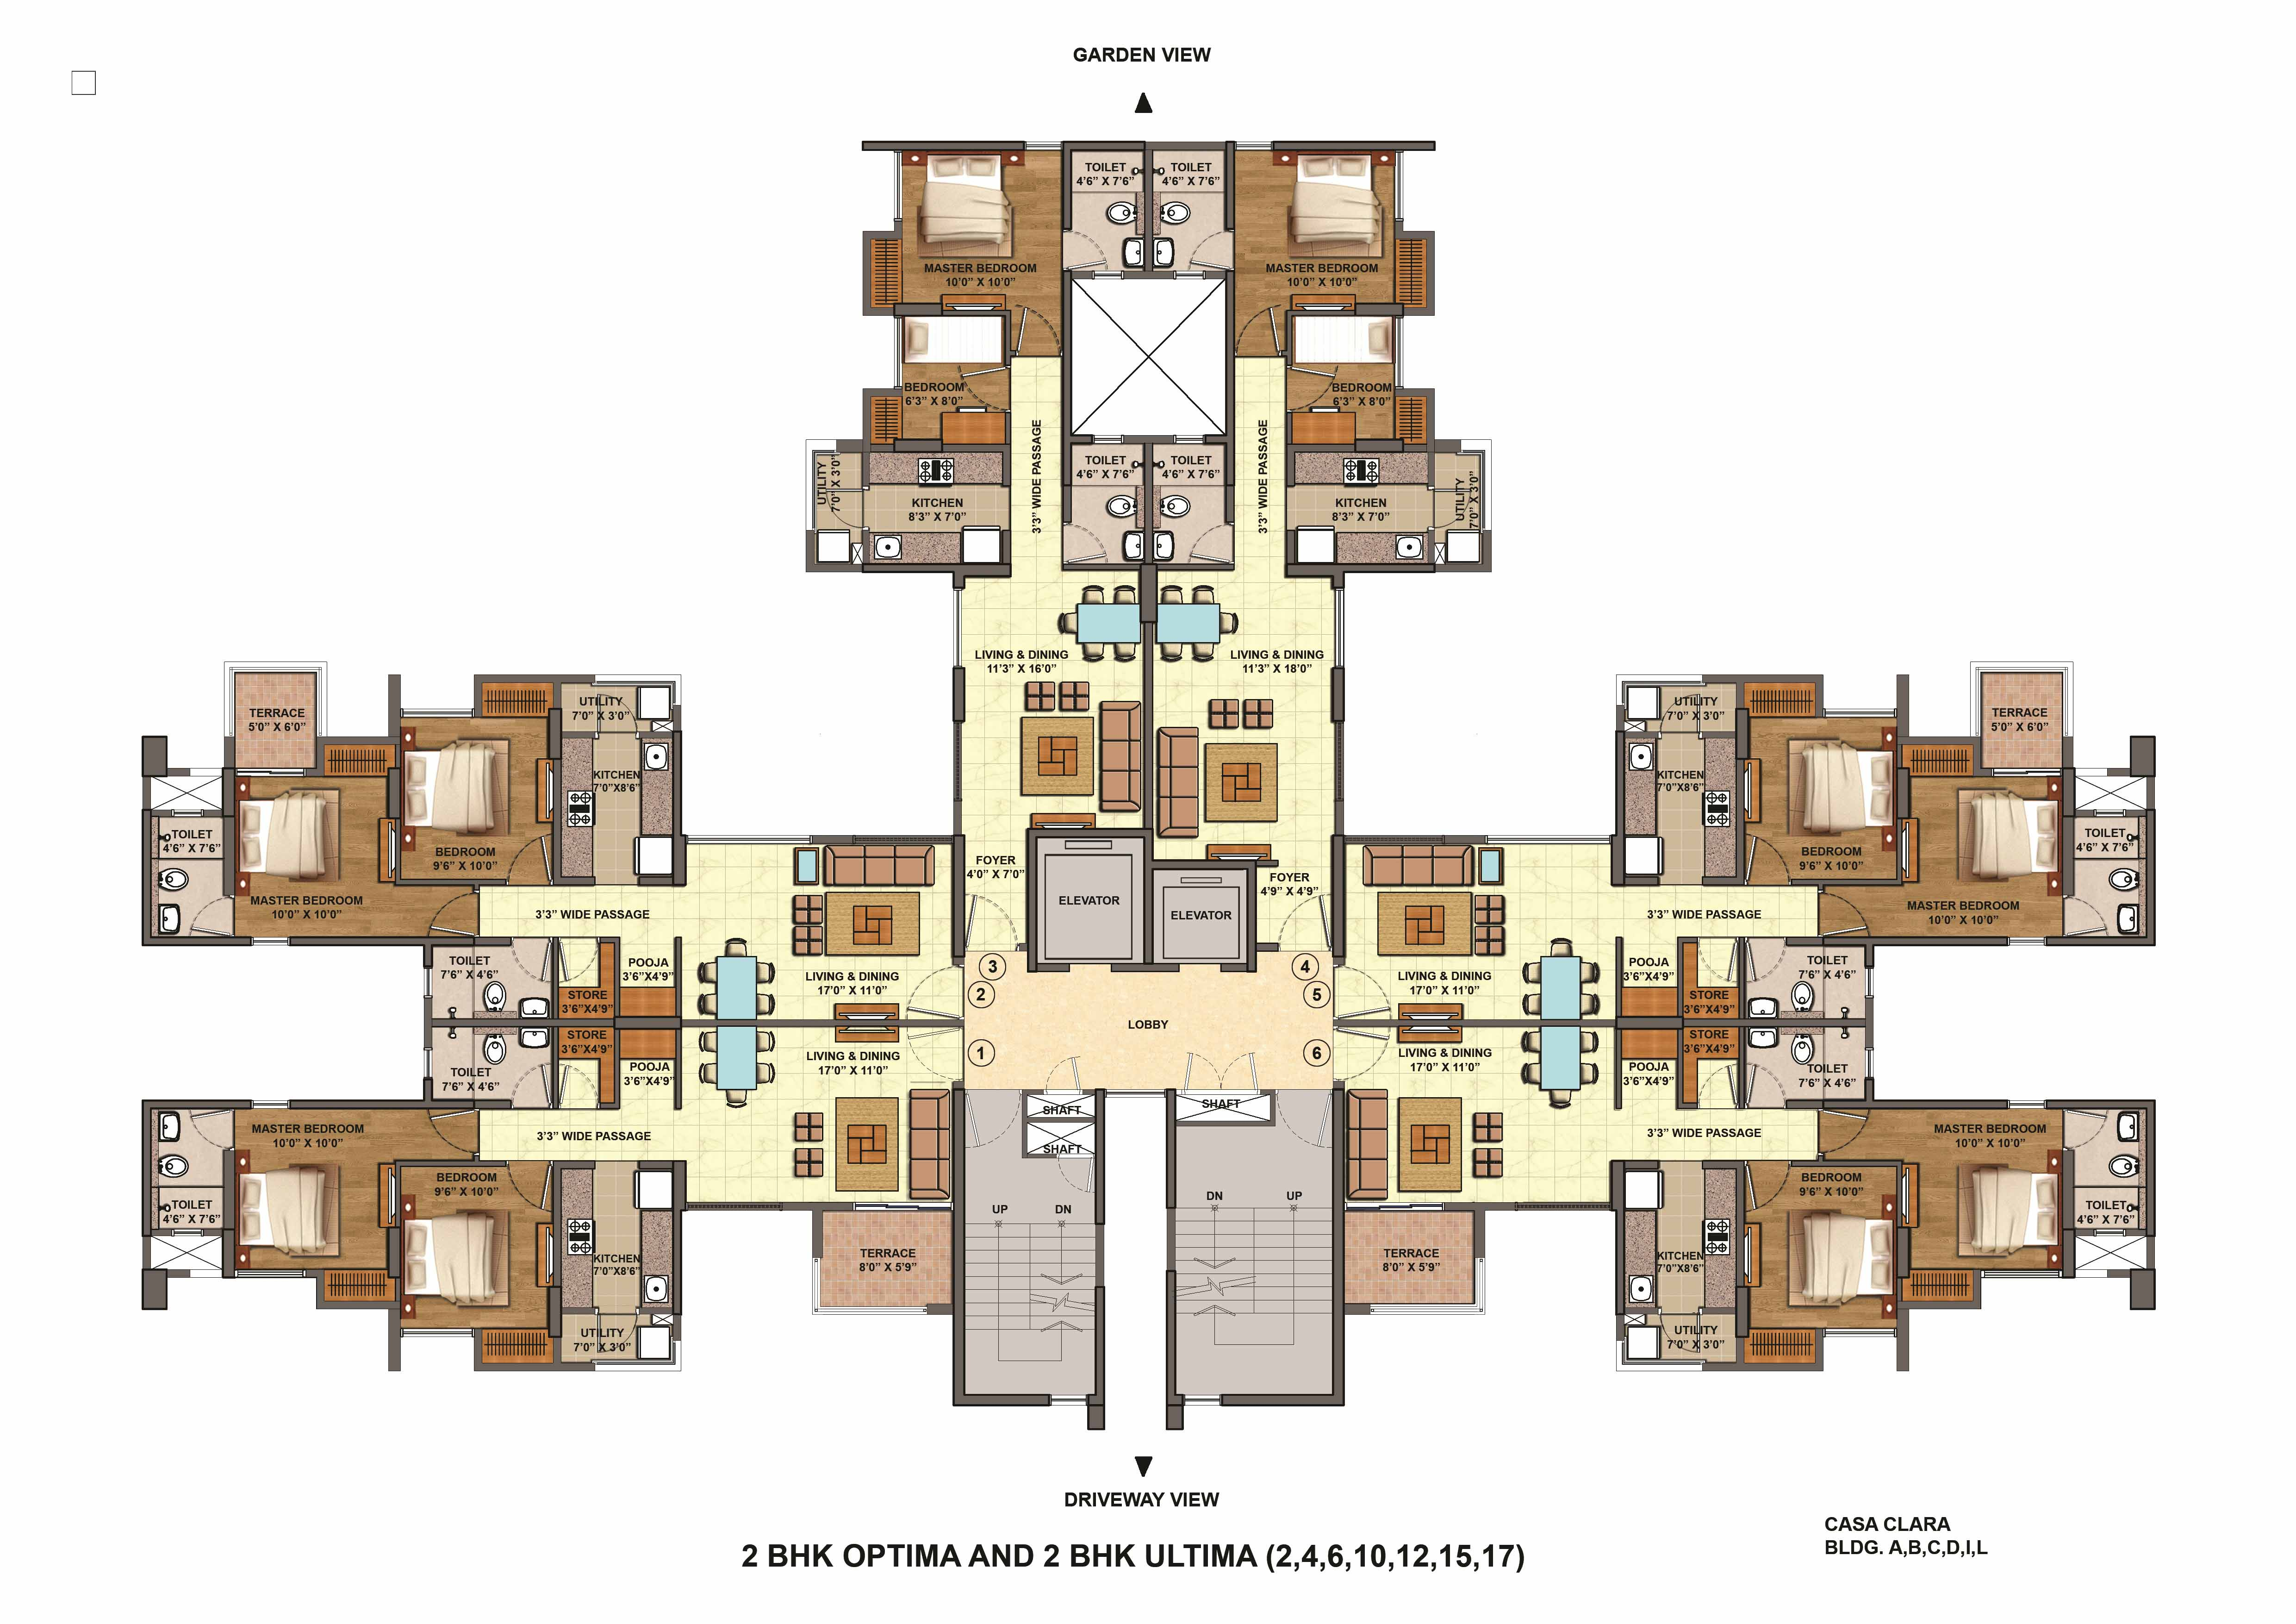window: (1484, 833, 1613, 845), (683, 833, 815, 844), (1978, 1267, 2064, 1280), (401, 1325, 474, 1339), (234, 1267, 307, 1281), (952, 585, 964, 668), (235, 765, 306, 779), (1822, 707, 1899, 719), (399, 707, 474, 719), (892, 148, 905, 221), (1990, 766, 2064, 779), (1335, 587, 1346, 668), (1820, 1327, 1897, 1338), (1395, 149, 1405, 223), (1395, 313, 1405, 387), (249, 935, 292, 949), (1182, 1394, 1224, 1406), (1047, 1394, 1089, 1406), (170, 807, 207, 821), (1022, 141, 1063, 153), (1233, 141, 1274, 153), (2006, 935, 2047, 947), (2004, 1098, 2048, 1109), (1864, 965, 1876, 1000), (1862, 1046, 1874, 1081), (1091, 269, 1126, 281), (1089, 432, 1124, 445), (249, 1100, 290, 1111), (2092, 808, 2127, 819), (2092, 1227, 2127, 1237), (170, 1227, 206, 1237), (1172, 269, 1207, 279), (1172, 434, 1207, 445), (423, 1046, 434, 1079), (423, 965, 434, 998)
